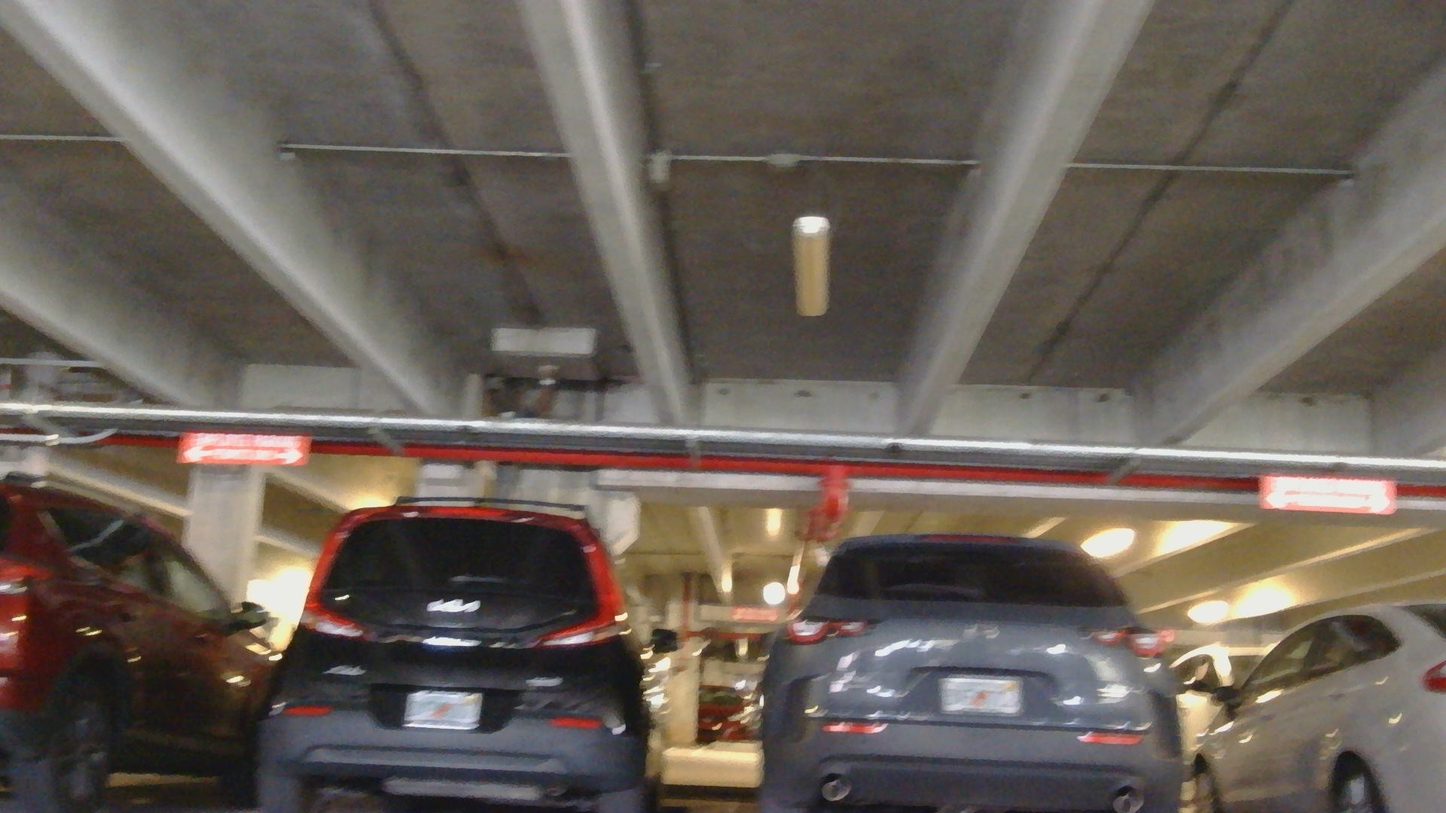occupied_spot: (254, 486, 665, 809), (757, 528, 1193, 811), (2, 474, 286, 809), (1193, 601, 1446, 812)
